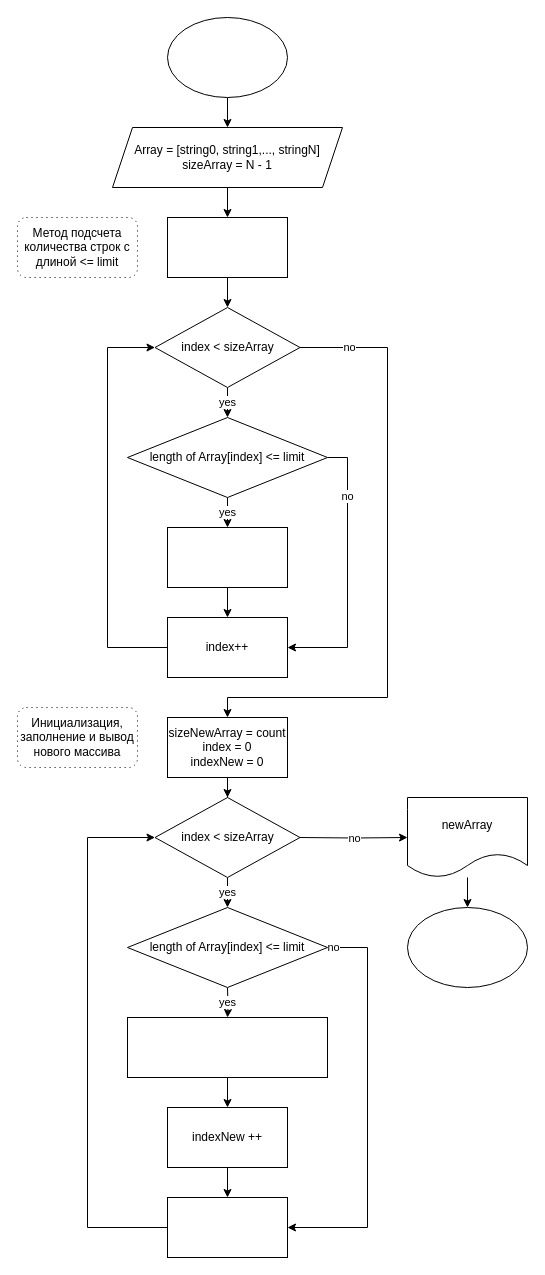
This 545x1275 diagram has some shape labels left out. The shapes that lost their labels are listed below. From the top down, each one's box as (x1, y1, x2, y2) in pixels, then its label:
(166, 16, 288, 98): start
(166, 216, 288, 278): index = 0 limit = 3 count = 0
(166, 526, 288, 588): count ++
(406, 906, 528, 988): end
(126, 1016, 328, 1078): newArray[indexNew] = Array[index]
(166, 1196, 288, 1258): index ++
